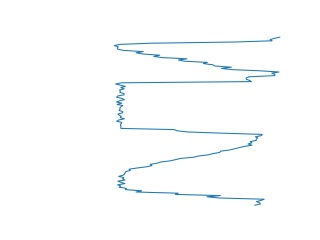distributaryChannelFill: (111, 72, 266, 139)
mouthBar: (111, 34, 282, 79)
underwaterDistributaryChannel: (113, 138, 266, 209)
